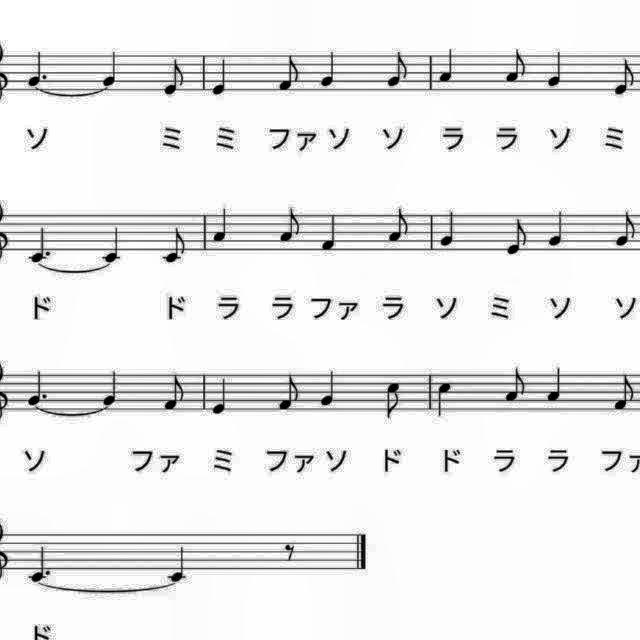Eighth-note: (272, 367, 304, 413), (272, 52, 304, 96), (382, 204, 414, 248), (274, 204, 306, 248), (608, 370, 640, 414), (159, 223, 191, 267), (382, 48, 412, 94), (610, 56, 640, 100), (610, 207, 640, 251), (502, 44, 532, 88), (160, 370, 190, 414), (501, 212, 531, 256), (501, 364, 532, 406), (160, 54, 188, 100), (378, 379, 406, 425)
Eighth-rest: (280, 540, 300, 568)
Quarter-dot: (22, 224, 58, 268), (23, 542, 58, 586), (20, 48, 52, 92), (22, 366, 54, 408)
Quarter-note: (544, 207, 572, 253), (315, 46, 343, 92), (206, 372, 234, 418), (206, 53, 234, 99), (316, 210, 344, 256), (166, 544, 196, 584), (542, 46, 568, 92), (316, 366, 342, 410), (541, 364, 567, 408), (101, 222, 129, 262), (436, 45, 462, 87), (97, 365, 123, 407), (99, 47, 125, 89), (438, 208, 462, 252), (210, 203, 234, 247), (434, 376, 458, 419)
